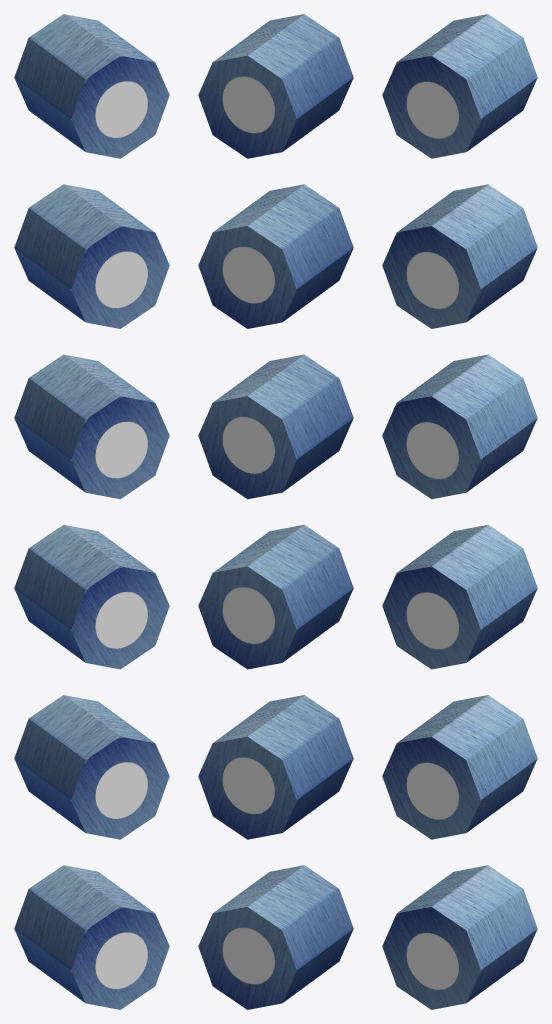
The model's file is touch_1.obj.
3 views of the same model, side by side, from view 1: azimuth 30°, elevation 25°; view 2: azimuth 150°, elevation 25°; view 3: azimuth 330°, elevation 25° (orthographic).
Visible parts, largest first — view 1: eye_L_02, eye_L_05, eye_L_04, eye_L_03, eye_L_06, eye_L_01; view 2: eye_L_02, eye_L_05, eye_L_04, eye_L_03, eye_L_06, eye_L_01; view 3: eye_L_02, eye_L_05, eye_L_04, eye_L_03, eye_L_06, eye_L_01.
Boxes of the visible parts, left/top/right/bottom form: eye_L_02: left=14, top=184, right=169, bottom=328; eye_L_05: left=14, top=695, right=169, bottom=839; eye_L_04: left=14, top=524, right=169, bottom=669; eye_L_03: left=14, top=354, right=169, bottom=499; eye_L_06: left=14, top=865, right=169, bottom=1009; eye_L_01: left=14, top=14, right=169, bottom=158; eye_L_02: left=198, top=184, right=353, bottom=328; eye_L_05: left=198, top=695, right=353, bottom=839; eye_L_04: left=198, top=524, right=353, bottom=669; eye_L_03: left=198, top=354, right=353, bottom=499; eye_L_06: left=198, top=865, right=353, bottom=1009; eye_L_01: left=198, top=14, right=353, bottom=158; eye_L_02: left=382, top=184, right=537, bottom=328; eye_L_05: left=382, top=695, right=537, bottom=839; eye_L_04: left=382, top=524, right=537, bottom=669; eye_L_03: left=382, top=354, right=537, bottom=499; eye_L_06: left=382, top=865, right=537, bottom=1009; eye_L_01: left=382, top=14, right=537, bottom=158.
Size of the model in its own units: 32.42 by 300 by 32.42.
1 material, 1 textured.
